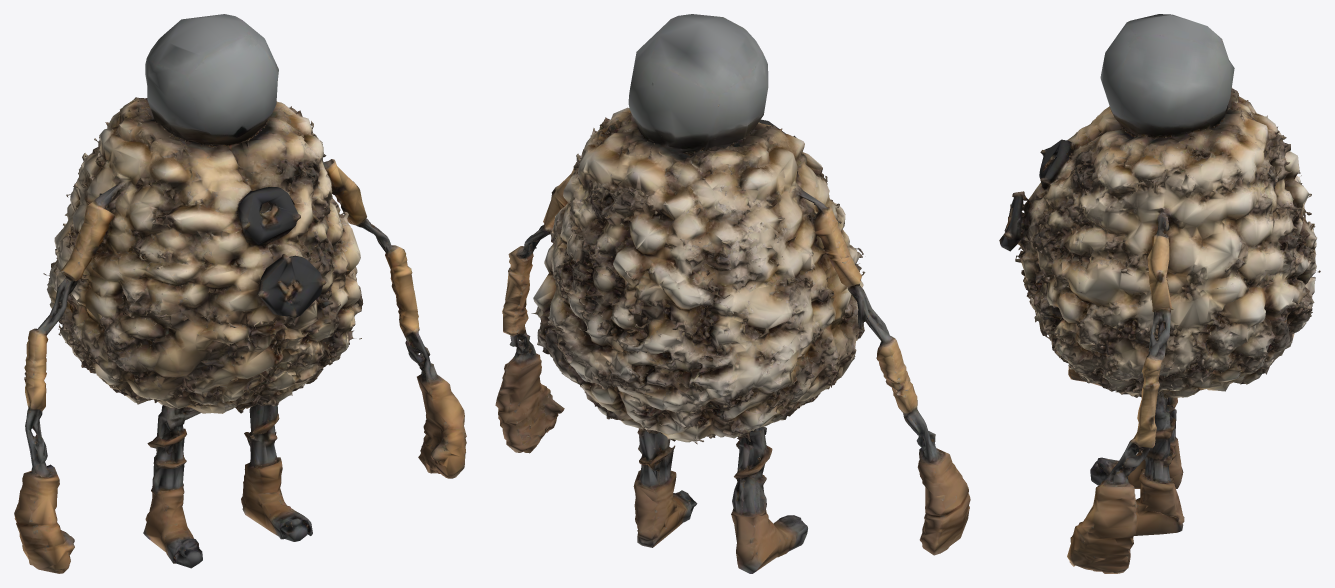
File: axiom.glb
3 renders of one model, left to right at view 1: azimuth 30°, elevation 25°; view 2: azimuth 150°, elevation 25°; view 3: azimuth 270°, elevation 25°, orthographic. The views are drawn at different scales.
Bounding box in the file's own units: 1.79 × 2 × 1.17.
1 material, 1 textured.
